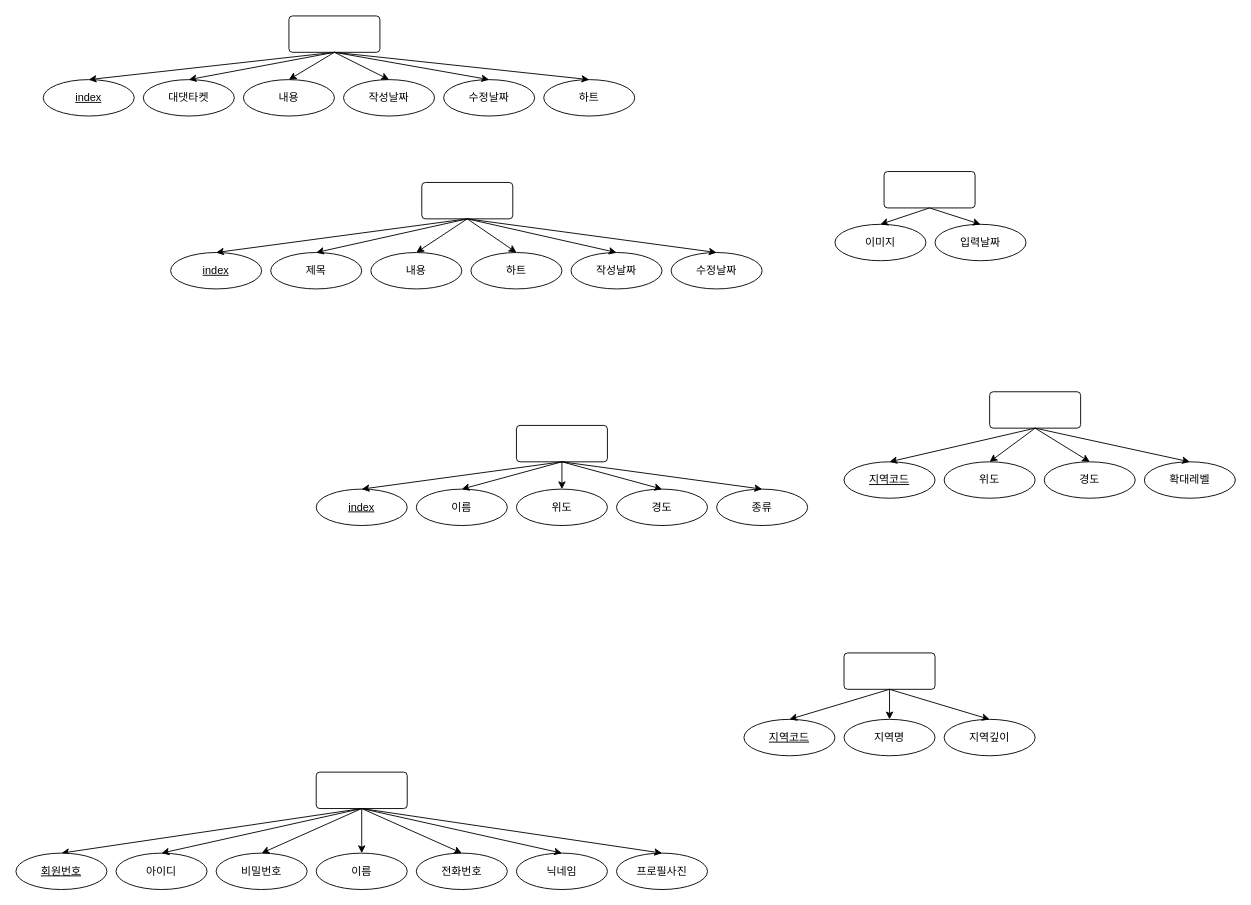
Image size: 1251x905. Some labels were removed from this diagram. The shapes that lost their labels are listed below. From the top down, each one's centre as x and y in pixels, then its label:
point 334,33: SNS코멘트
point 467,200: SNS게시글
point 929,189: SNS게시글 이미지
point 1035,409: API지도 지역별 센터좌표
point 561,443: API지도 마커데이터
point 889,670: 지역구분코드
point 361,790: 회원
